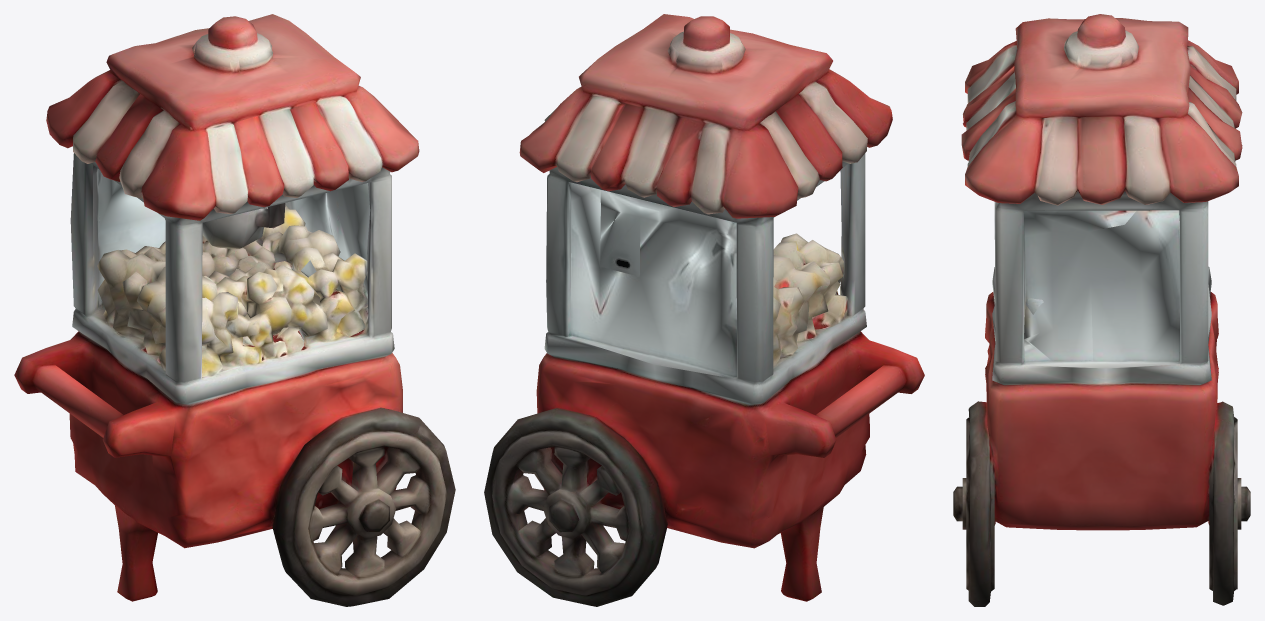
Rendered from misir.glb.
3 views of the same model, side by side, from view 1: azimuth 30°, elevation 25°; view 2: azimuth 150°, elevation 25°; view 3: azimuth 270°, elevation 25° (orthographic).
Parts seen in each view (by area): view 1: tripo_node_629acb87-2aa1-4959-95ca-254d87e645a0; view 2: tripo_node_629acb87-2aa1-4959-95ca-254d87e645a0; view 3: tripo_node_629acb87-2aa1-4959-95ca-254d87e645a0.
Part boxes in pixels (x1=…): tripo_node_629acb87-2aa1-4959-95ca-254d87e645a0: x1=14, y1=14, x2=455, y2=606; tripo_node_629acb87-2aa1-4959-95ca-254d87e645a0: x1=484, y1=14, x2=924, y2=606; tripo_node_629acb87-2aa1-4959-95ca-254d87e645a0: x1=953, y1=14, x2=1250, y2=606.
Size of the model in its own units: 0.6106 by 0.9782 by 0.4843.
Materials: 1 (1 with a texture image).
